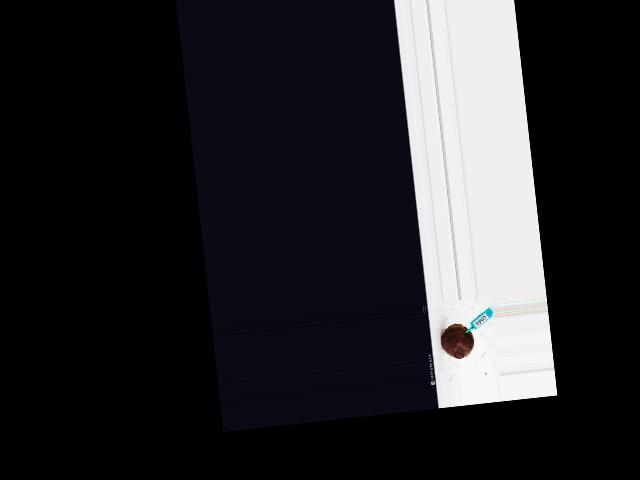beet: (439, 322, 475, 360)
